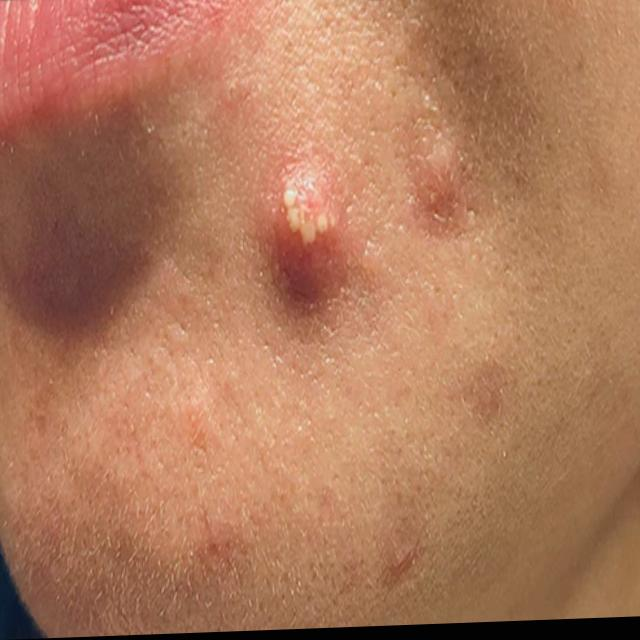blackheads: (270, 124, 358, 338), (414, 117, 472, 225), (378, 513, 426, 598)
